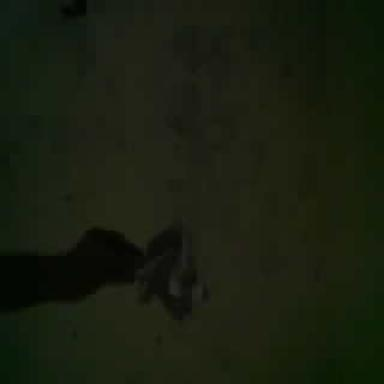paper: (136, 222, 208, 320)
